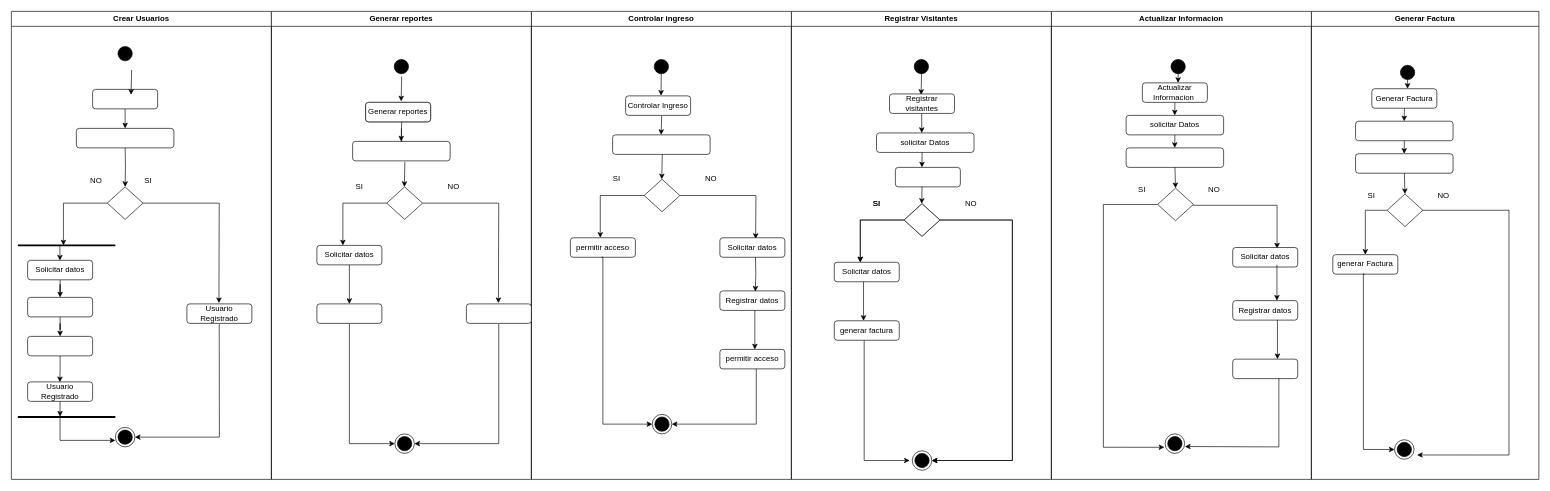
Image size: 1550x491. Some labels were removed from this diagram. Here are the shapes that lost their labels. From the top down, the centre of each, then its label:
point 125,99: Crear usuario
point 125,138: ¿ Ususario registrado?
point 401,151: ¿ Desea generar reportes?
point 661,144: Placa Registrada
point 1404,131: Validar datos
point 927,177: usuario visitante
point 1174,157: Datos iguales a los guardados
point 1404,163: Propietario Parqueadero
point 60,307: Diligenciar formulario
point 349,313: Reporte Generado
point 498,313: Reporte no Generado
point 60,346: Validar información
point 1265,368: Datos actualizados
